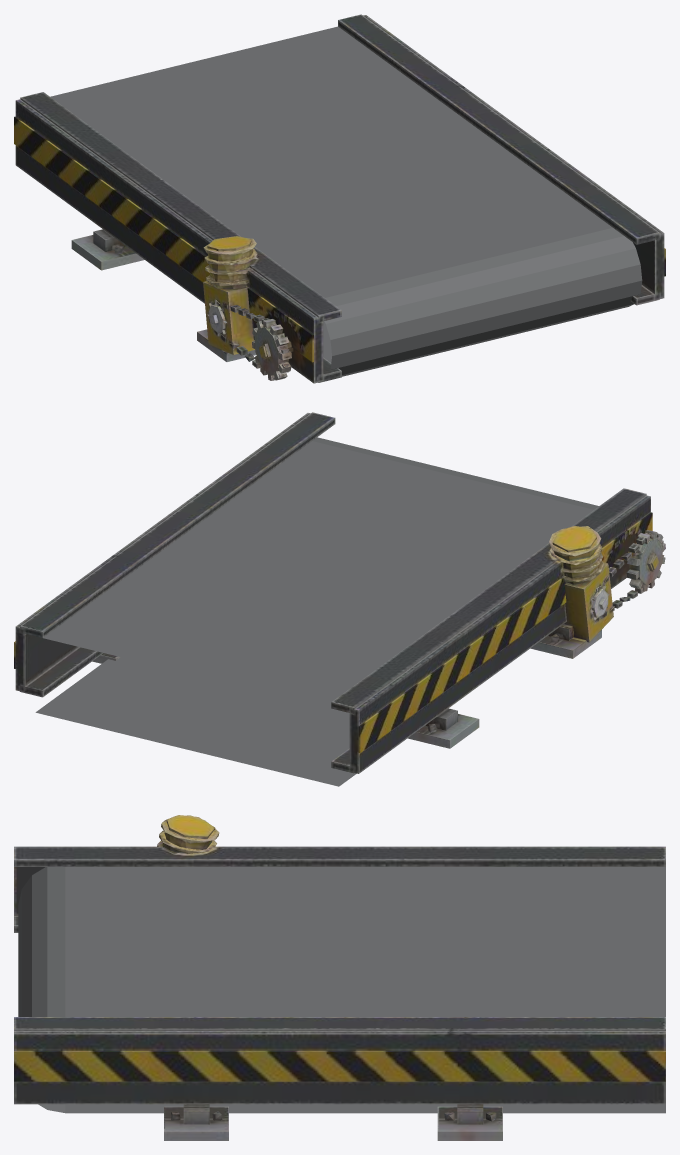
The model's file is esteira_inicio.glb.
The picture shows the model from 3 angles, top to bottom: view 1: azimuth 30°, elevation 25°; view 2: azimuth 150°, elevation 25°; view 3: azimuth 270°, elevation 25°; orthographic projection. The views are drawn at different scales.
Parts seen in each view (by area): view 1: esteira_inicio_corpo; view 2: esteira_inicio_corpo; view 3: esteira_inicio_corpo.
Part boxes in pixels (x1,y1,x2,y2): esteira_inicio_corpo: (14,14,665,383); esteira_inicio_corpo: (14,412,665,786); esteira_inicio_corpo: (14,815,665,1140).
Bounding box in the file's own units: 0.7687 × 0.2038 × 1.
2 materials, 1 textured.
